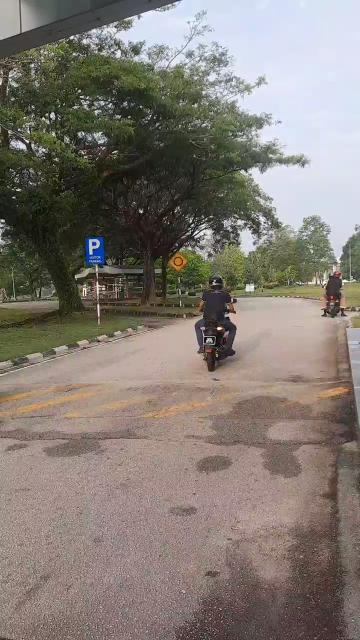motorcycle: (188, 268, 244, 371)
